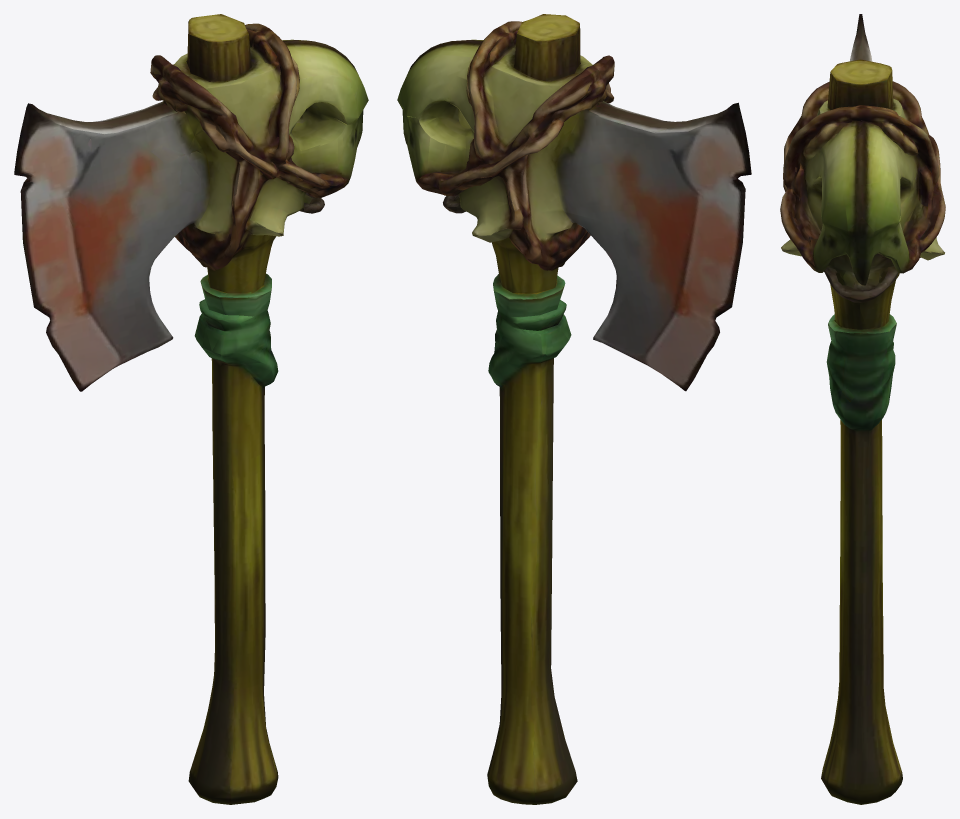
File: bog_hide_axe_off.glb
The picture shows the model from 3 angles, left to right: view 1: azimuth 30°, elevation 25°; view 2: azimuth 150°, elevation 25°; view 3: azimuth 270°, elevation 25°; orthographic projection. The views are drawn at different scales.
Parts seen in each view (by area): view 1: world; view 2: world; view 3: world.
Boxes of the visible parts, x1,y1,x2,y2 form: world: [14, 14, 368, 804]; world: [397, 14, 751, 804]; world: [780, 14, 945, 804].
Size of the model in its own units: 0.3311 by 0.7 by 0.147.
1 material, 1 textured.
